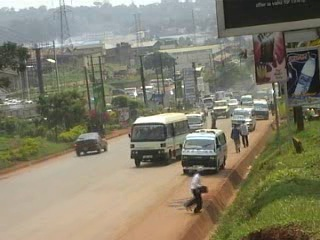Car: (71, 130, 108, 157)
